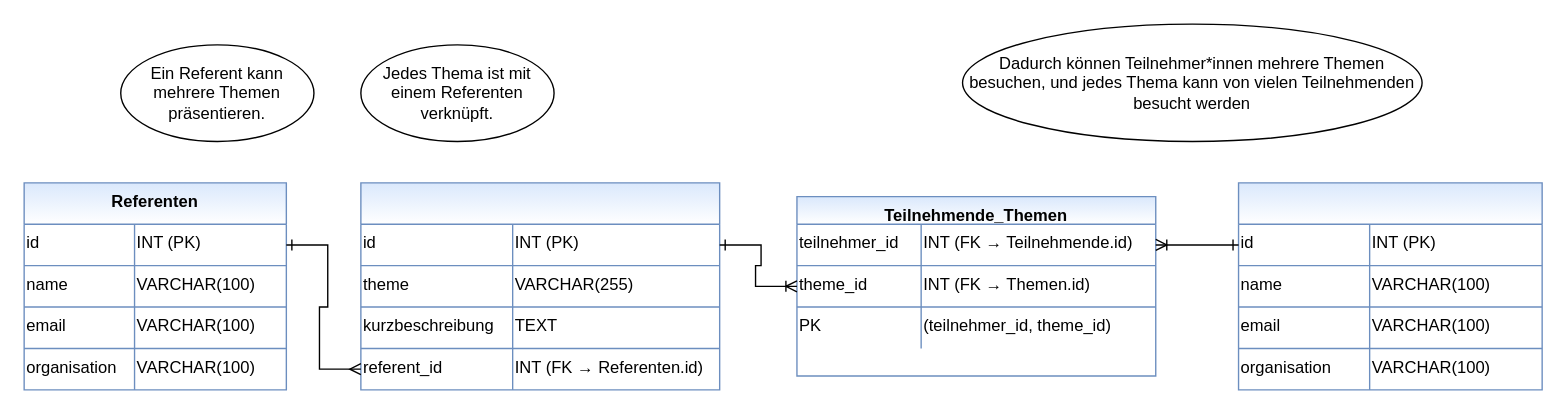
Some shapes in this 1566 by 418 pixel diagram are drawn without their labels. The box of each missing label's shape, as (x1, y1, x2, y2) in pixels:
Teilnehmende: (1237, 181, 1542, 390)
Themen: (359, 181, 720, 390)
